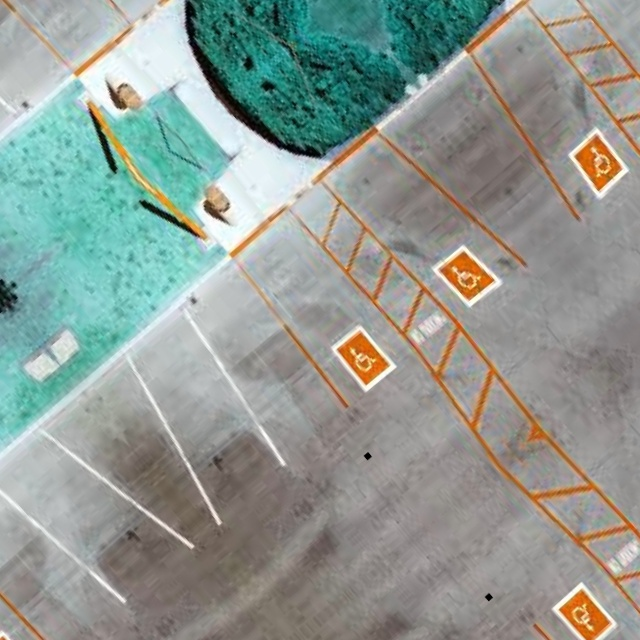ISA: (445, 254, 486, 295), (578, 141, 618, 182), (342, 337, 380, 377), (566, 599, 604, 638)
